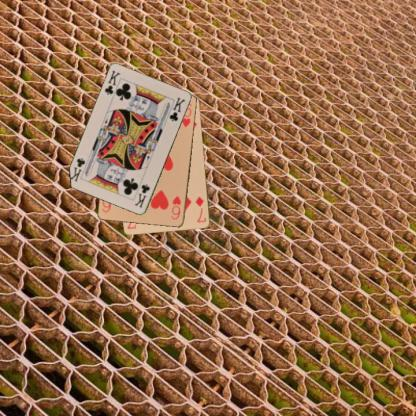6h: (169, 194, 182, 221)
7d: (193, 194, 207, 224)
Kc: (102, 68, 122, 97), (132, 182, 151, 209)
